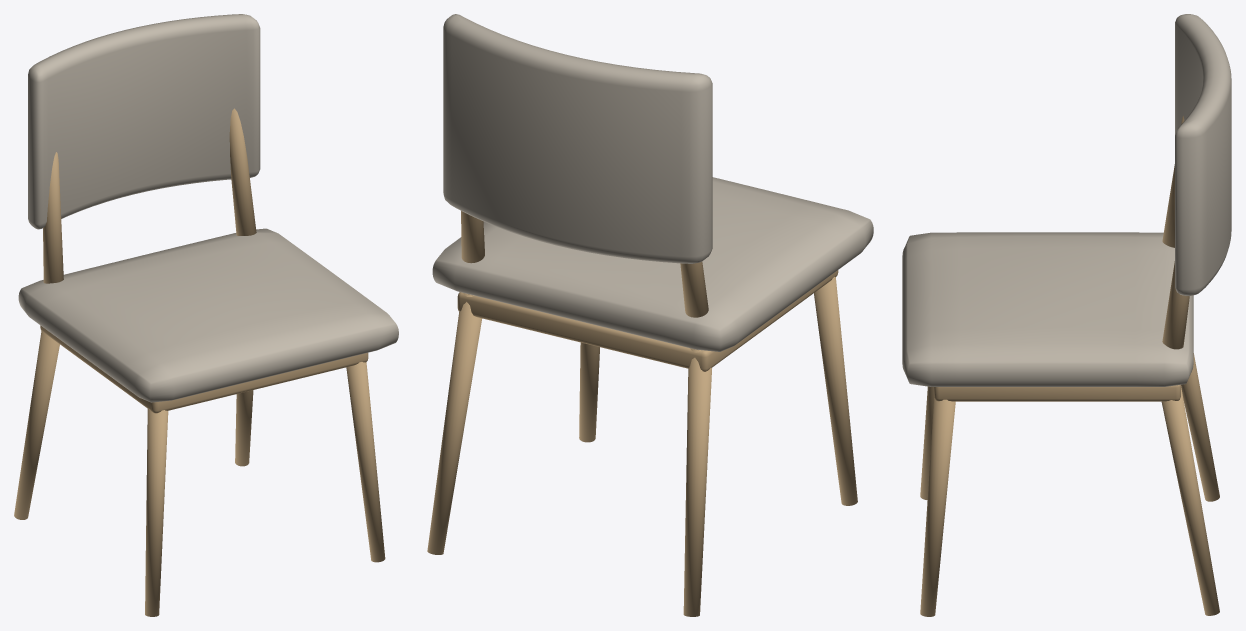
File: chair.glb
3 renders of one model, left to right at view 1: azimuth 30°, elevation 25°; view 2: azimuth 150°, elevation 25°; view 3: azimuth 270°, elevation 25°, orthographic. The views are drawn at different scales.
Visible parts, largest first — view 1: seat, back, leg_f0, leg_f1, leg_b0, frame, post1, post0, leg_b1; view 2: back, seat, frame, leg_b0, leg_b1, leg_f0, leg_f1, post0, post1; view 3: seat, back, leg_b1, leg_f1, frame, leg_b0, post1, leg_f0, post0.
Part boxes in pixels (bbox=[...]): seat: bbox=[18, 228, 398, 402]; back: bbox=[28, 14, 260, 229]; leg_f0: bbox=[145, 408, 168, 616]; leg_f1: bbox=[346, 362, 385, 562]; leg_b0: bbox=[14, 331, 59, 519]; frame: bbox=[40, 325, 368, 413]; post1: bbox=[229, 108, 256, 235]; post0: bbox=[43, 152, 63, 283]; leg_b1: bbox=[235, 390, 253, 466]; back: bbox=[443, 14, 712, 263]; seat: bbox=[432, 177, 873, 351]; frame: bbox=[457, 270, 838, 371]; leg_b0: bbox=[683, 348, 711, 616]; leg_b1: bbox=[427, 293, 482, 554]; leg_f0: bbox=[814, 277, 857, 505]; leg_f1: bbox=[579, 342, 599, 442]; post0: bbox=[680, 261, 708, 349]; post1: bbox=[461, 211, 484, 295]; seat: bbox=[902, 232, 1193, 386]; back: bbox=[1175, 14, 1231, 295]; leg_b1: bbox=[1161, 386, 1219, 615]; leg_f1: bbox=[920, 398, 955, 616]; frame: bbox=[934, 384, 1180, 401]; leg_b0: bbox=[1181, 353, 1219, 501]; post1: bbox=[1162, 261, 1189, 349]; leg_f0: bbox=[920, 386, 934, 500]; post0: bbox=[1162, 116, 1184, 247].
Size of the model in its own units: 0.5 by 0.8502 by 0.52.
